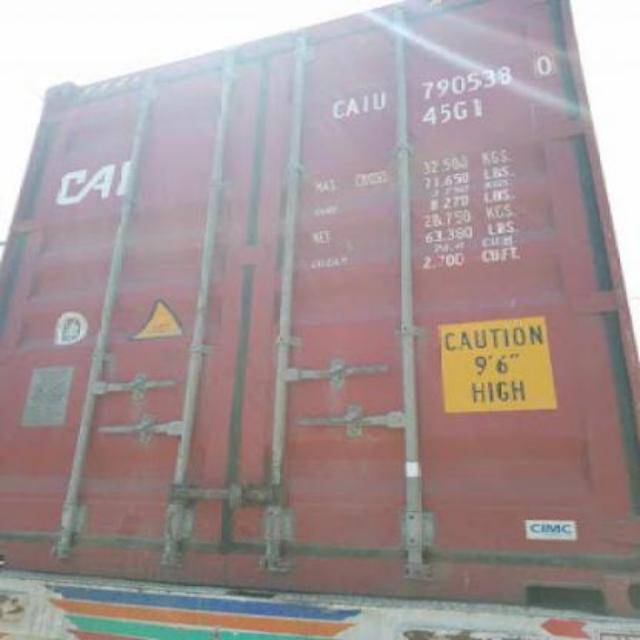0: (534, 54, 554, 74), (450, 75, 466, 95)
3: (480, 68, 496, 88)
5: (466, 72, 479, 92)
7: (418, 80, 436, 102)
8: (496, 64, 509, 85)
9: (436, 78, 448, 99)
A: (344, 95, 360, 116)
C: (330, 98, 348, 118)
I: (360, 93, 372, 113)
U: (370, 90, 386, 112)
